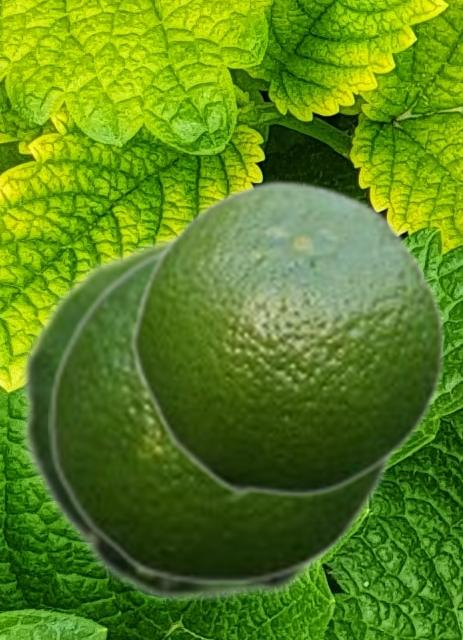calamansi: (19, 232, 346, 604), (48, 240, 397, 586), (129, 177, 446, 497)
